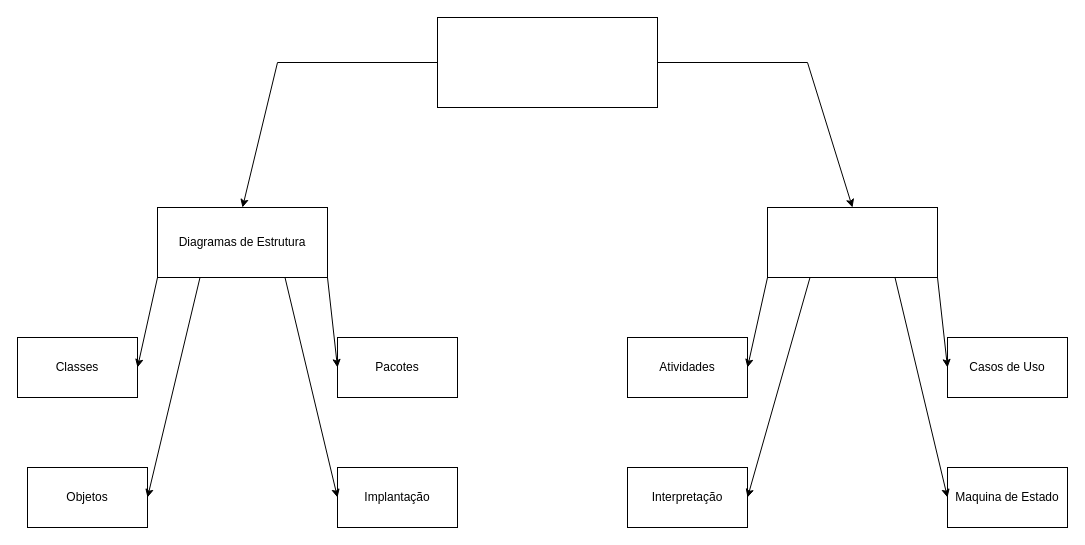
Image size: 1085x545. Some labels were removed from this diagram. Here are the shapes that lost their labels. From the top down, the centre of each, then its label:
pixel 547 62: Diagramas UML
pixel 852 242: Diagramas de Comportamento
